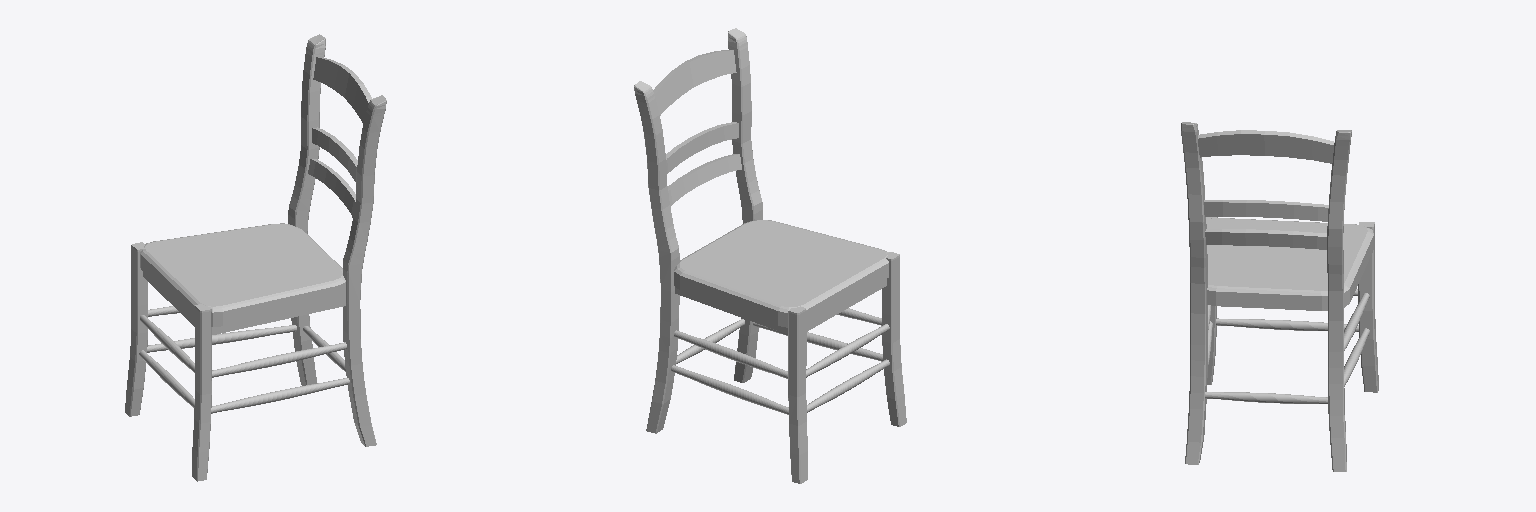
Rendered from krzeslo z lewej.obj.
3 views of the same model, side by side, from view 1: azimuth 30°, elevation 25°; view 2: azimuth 150°, elevation 25°; view 3: azimuth 270°, elevation 25° (orthographic).
Visible parts, largest first — view 1: Cube.023; view 2: Cube.023; view 3: Cube.023.
Boxes of the visible parts, box(x1,y1,x2,y2) form: Cube.023: box(125, 34, 386, 481); Cube.023: box(634, 28, 906, 483); Cube.023: box(1181, 122, 1378, 471).
Bounding box in the file's own units: 0.5765 × 0.9578 × 0.4996.